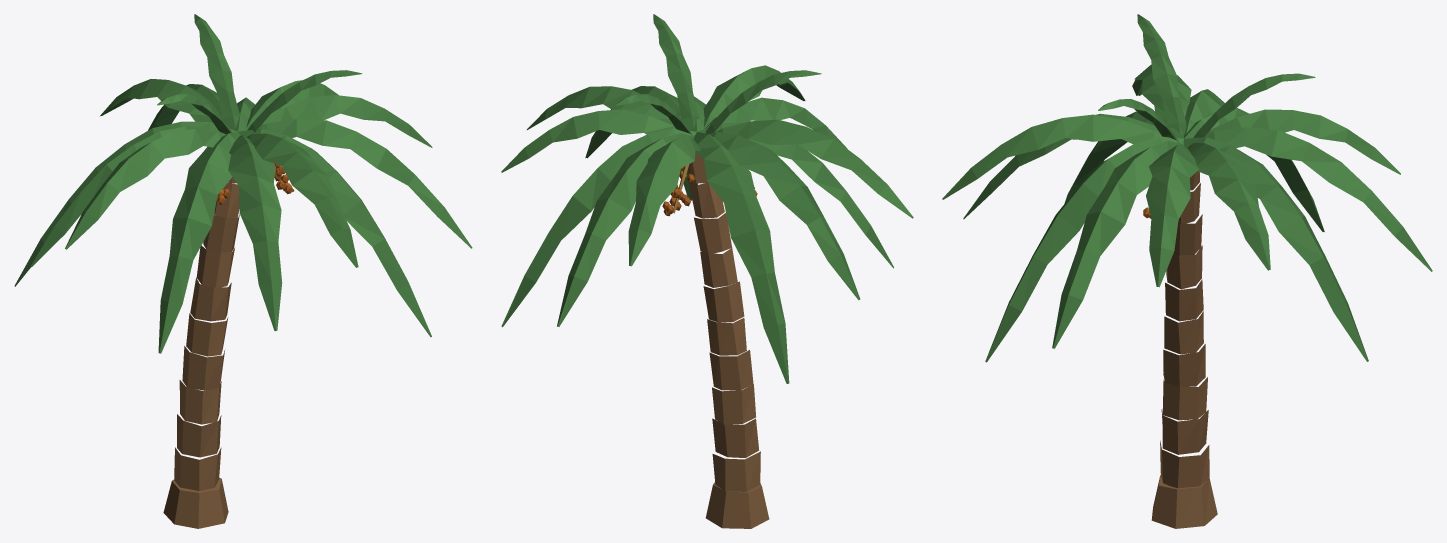
File: ZB_agac_hurma_a4.glb
3 renders of one model, left to right at view 1: azimuth 30°, elevation 25°; view 2: azimuth 150°, elevation 25°; view 3: azimuth 270°, elevation 25°, orthographic. The views are drawn at different scales.
Visible parts, largest first — view 1: ZB_agac_hurma_a4; view 2: ZB_agac_hurma_a4; view 3: ZB_agac_hurma_a4.
Part boxes in pixels (x1=…): ZB_agac_hurma_a4: x1=14, y1=14, x2=472, y2=528; ZB_agac_hurma_a4: x1=501, y1=14, x2=913, y2=528; ZB_agac_hurma_a4: x1=942, y1=14, x2=1432, y2=528.
Bounding box in the file's own units: 3.6 × 4.06 × 3.83.
